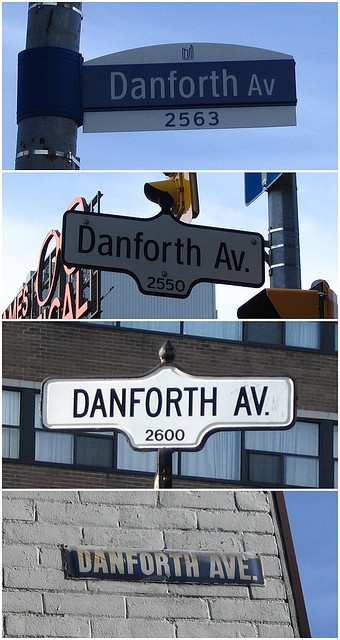traffic light: (144, 173, 340, 396)
